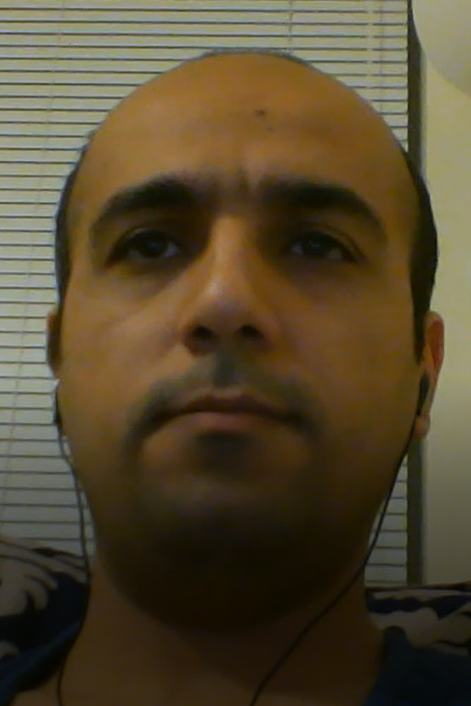Not Sleeping: (88, 168, 382, 305)
